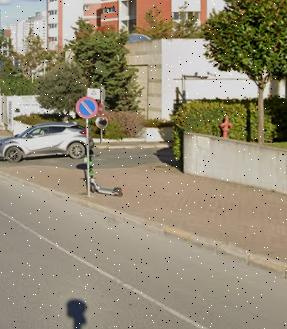nopark: (76, 97, 98, 119)
